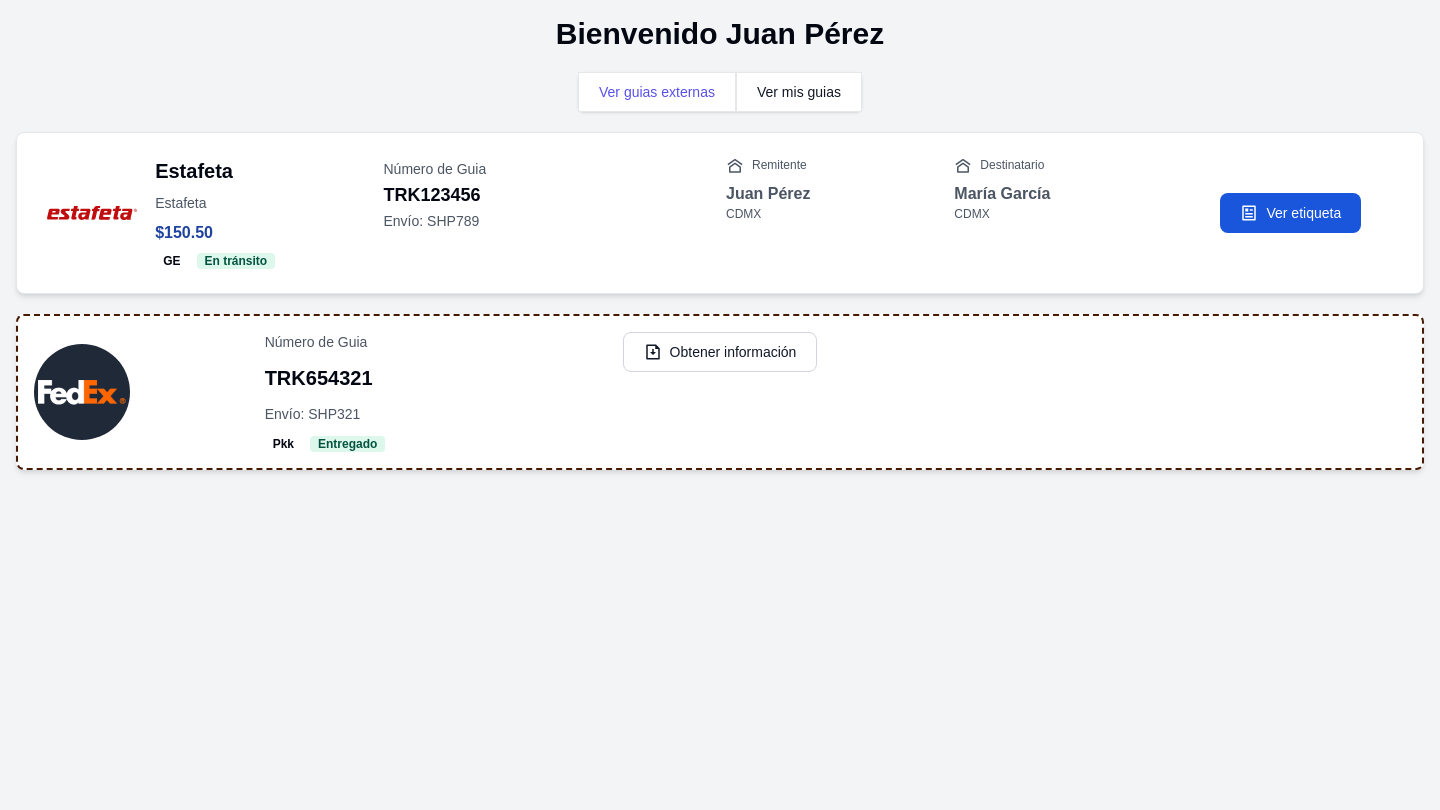
Test: Order › When switching to DB source › When clicking Ver detalles on an own DB guide › Then should show details view and hide the list
Click the button "Ver mis guias".
click(799, 92)  # box 736,72 -> 862,112
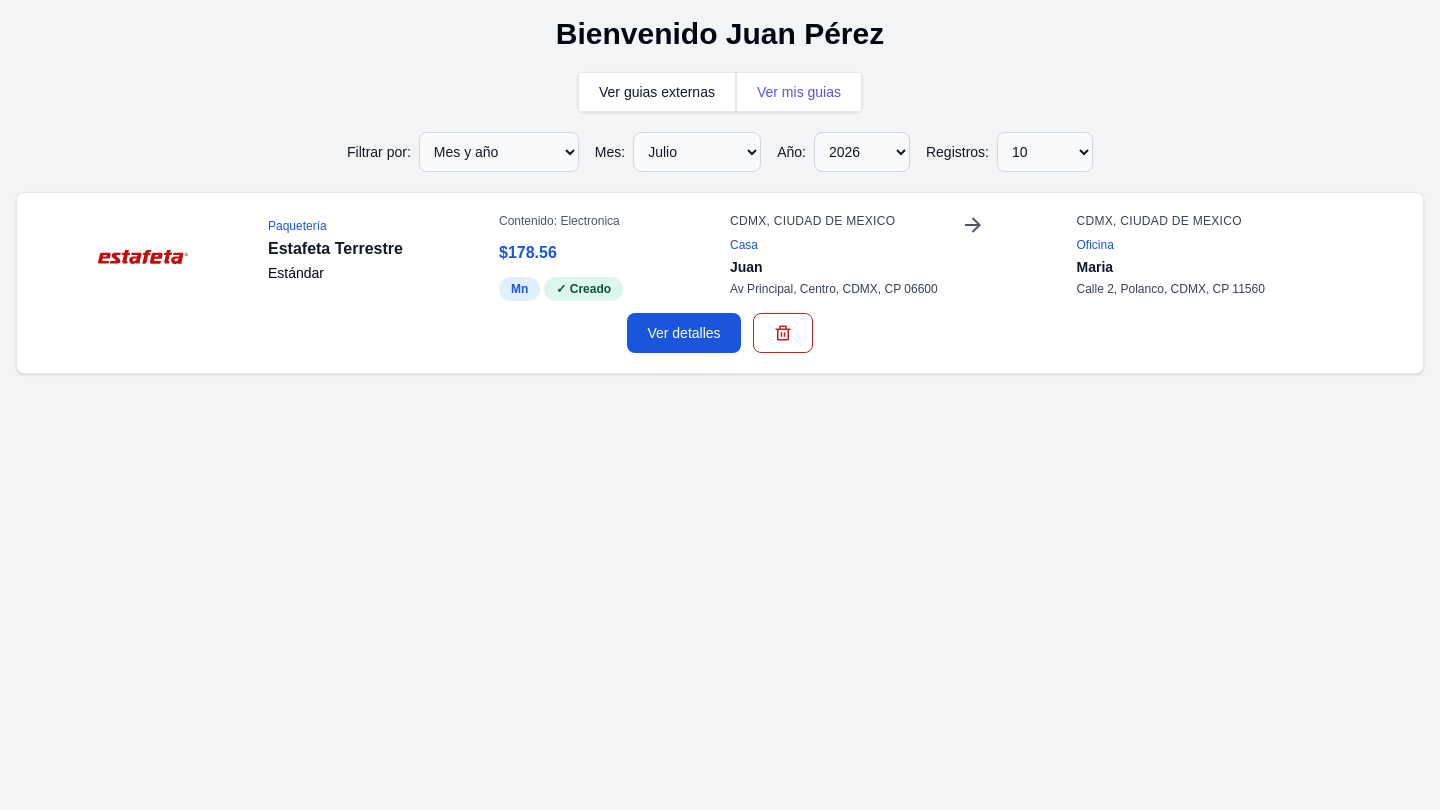
Now the button with test id "guide-db-details-button" is shown
Click the button with test id "guide-db-details-button".
click(684, 333)  # box 627,313 -> 741,353
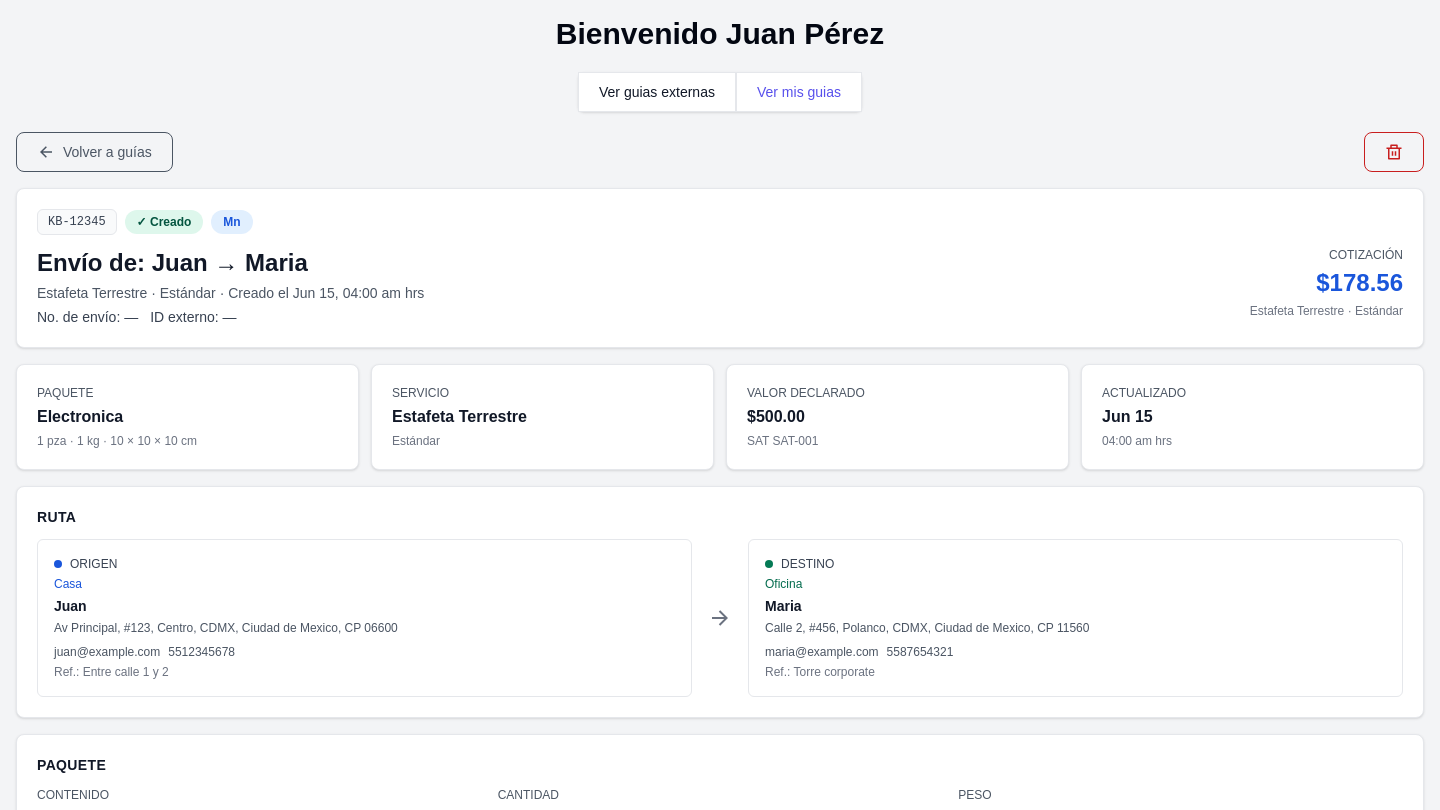
Now the element with test id "guide-db-details-header" is shown, box 16,188 -> 1424,348
Now the text "KB-12345" is shown, box 37,209 -> 117,235
Now the heading "Envío de: Juan → Maria" is shown, box 37,249 -> 308,276
